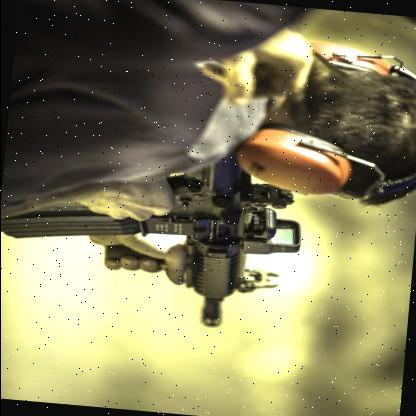rifle: (5, 110, 300, 339)
